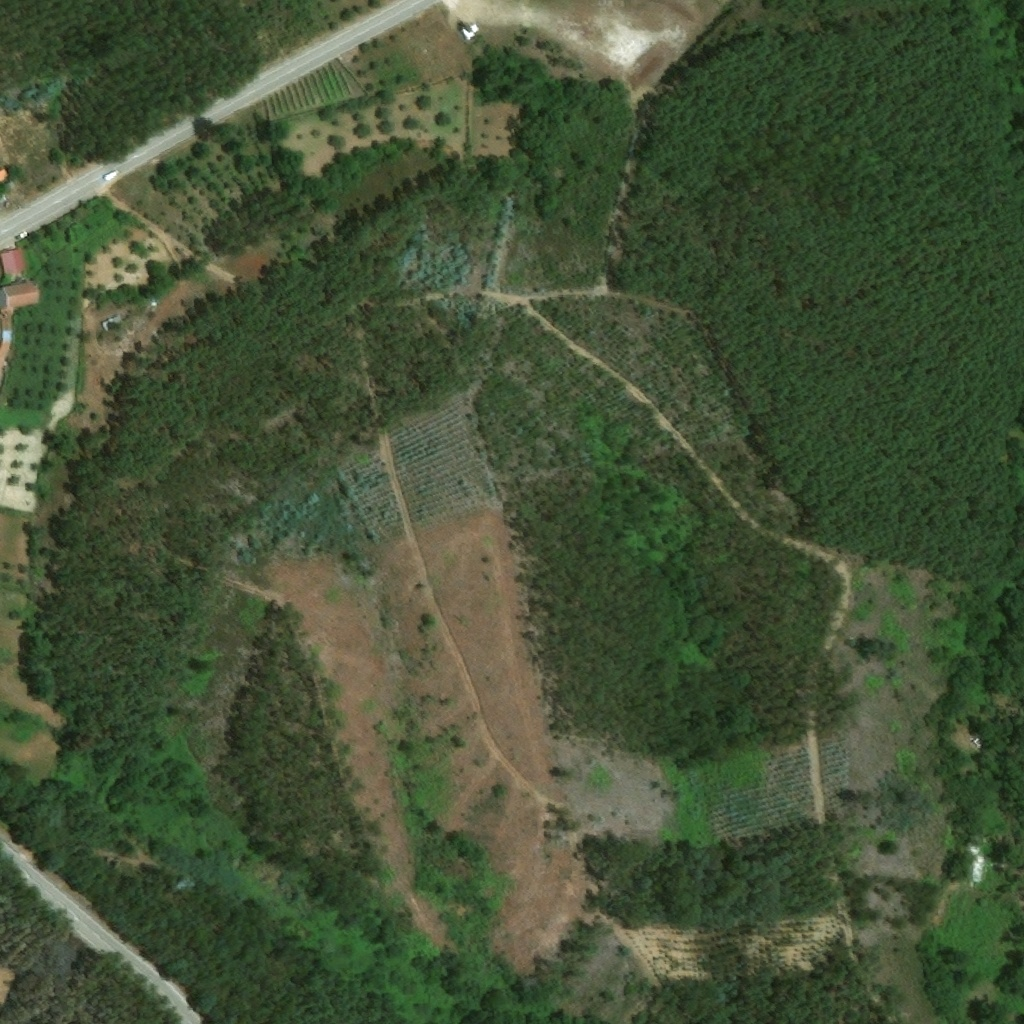0 no-damage: (0, 282, 40, 310), (0, 248, 28, 277), (0, 315, 12, 380), (461, 22, 483, 43)
4 un-classified: (0, 160, 11, 183)
